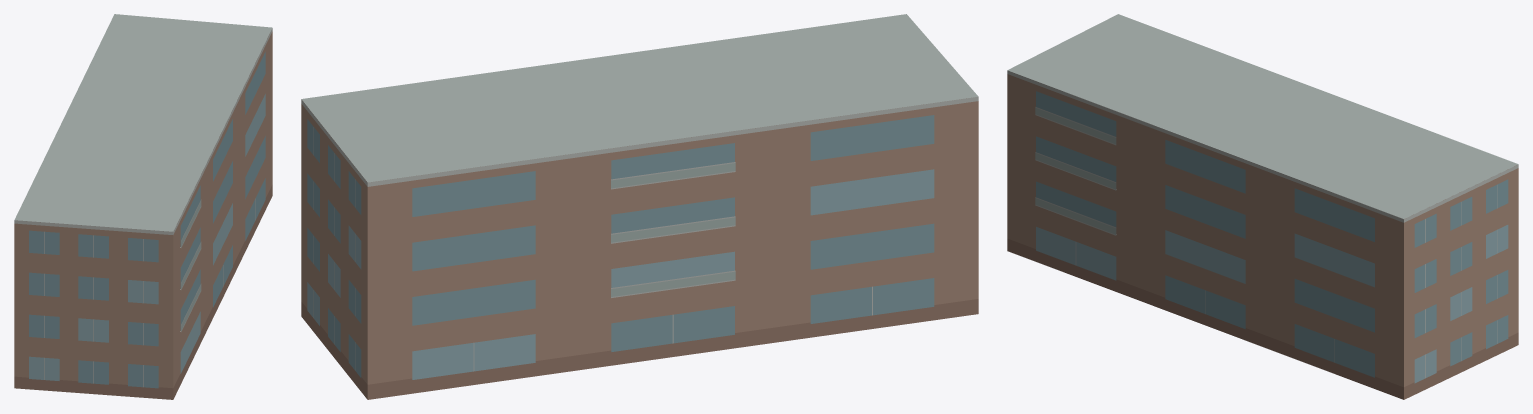
Rendered from survey-upis-32755417.glb.
3 views of the same model, side by side, from view 1: azimuth 30°, elevation 25°; view 2: azimuth 150°, elevation 25°; view 3: azimuth 270°, elevation 25° (orthographic). The views are drawn at different scales.
Parts seen in each view (by area): view 1: survey-upis-32755417.tmp; view 2: survey-upis-32755417.tmp; view 3: survey-upis-32755417.tmp.
Part boxes in pixels (<box>): survey-upis-32755417.tmp: <box>14,14,272,399</box>; survey-upis-32755417.tmp: <box>301,14,978,399</box>; survey-upis-32755417.tmp: <box>1007,14,1518,399</box>.
Size of the model in its own units: 29.71 by 12.2 by 31.3.
